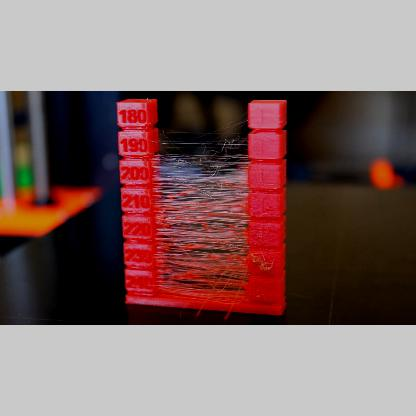fail: (156, 132, 248, 284)
